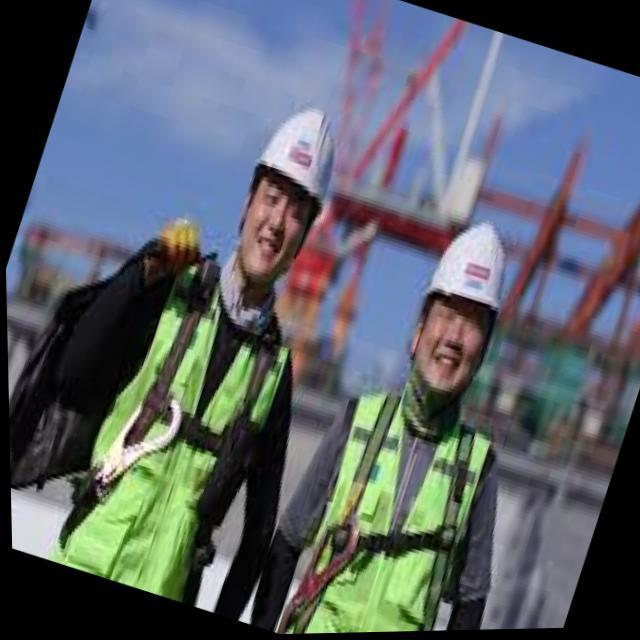belt: (70, 258, 315, 616), (270, 364, 512, 636)
